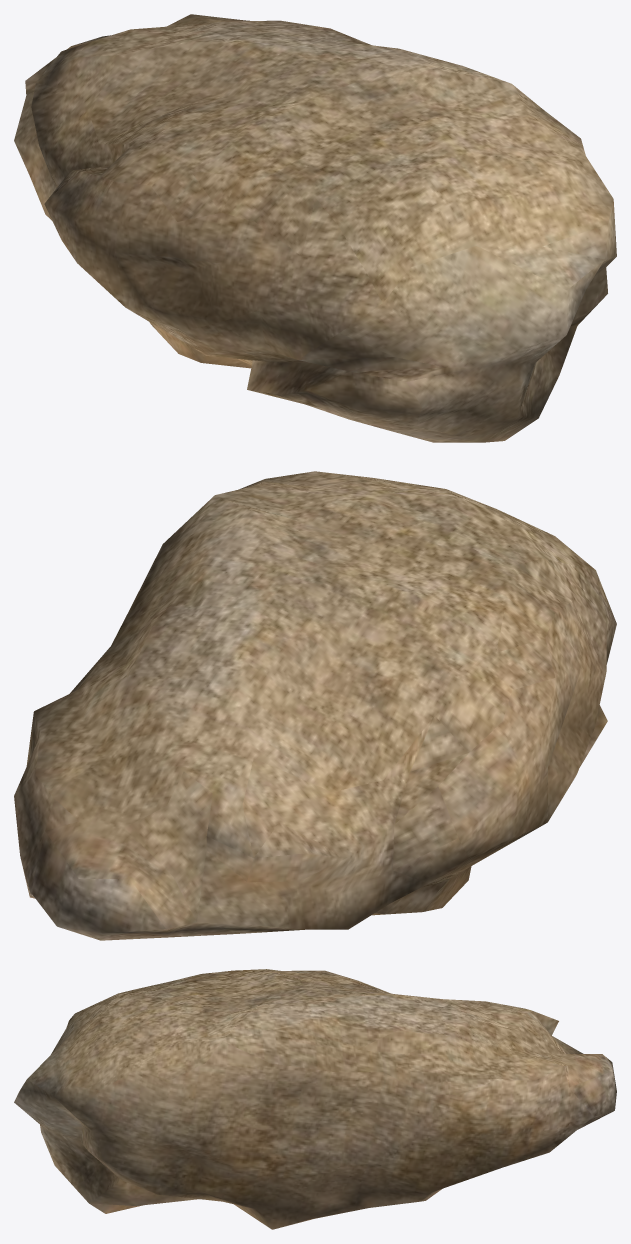
The model's file is boulder_c.glb.
3 views of the same model, one above another, from view 1: azimuth 30°, elevation 25°; view 2: azimuth 150°, elevation 25°; view 3: azimuth 270°, elevation 25° (orthographic). The views are drawn at different scales.
Visible parts, largest first — view 1: boulder_c; view 2: boulder_c; view 3: boulder_c.
Part boxes in pixels (left/top/right/bottom): boulder_c: left=14, top=14, right=616, bottom=442; boulder_c: left=14, top=471, right=616, bottom=940; boulder_c: left=14, top=969, right=616, bottom=1229.
Bounding box in the file's own units: 0.7341 × 0.5267 × 1.35.
1 material, 1 textured.
